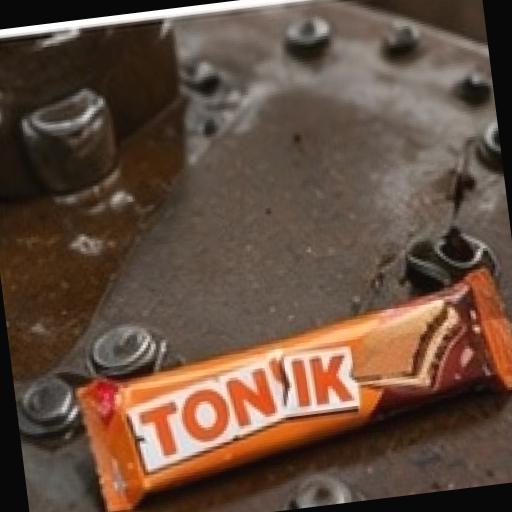tonik: (11, 164, 512, 512)
